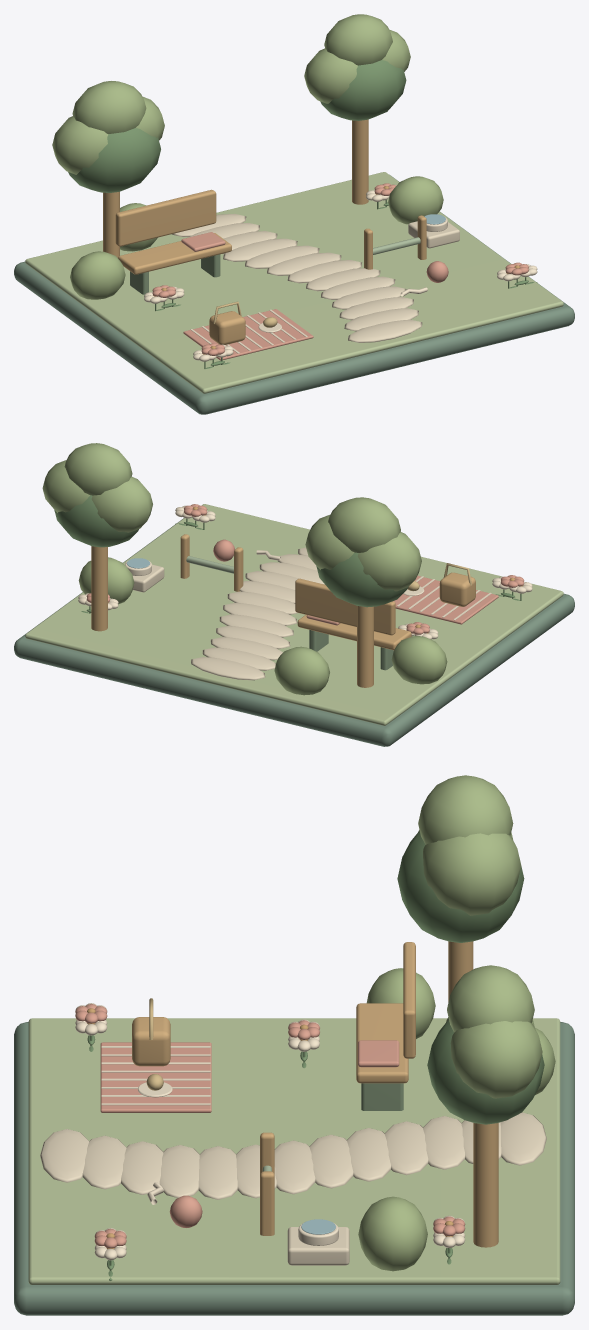
The model's file is park.glb.
The picture shows the model from 3 angles, top to bottom: view 1: azimuth 30°, elevation 25°; view 2: azimuth 150°, elevation 25°; view 3: azimuth 270°, elevation 25°; orthographic projection. The views are drawn at different scales.
Visible parts, largest first — view 1: meadow--柔绿草地, trees--嫩叶, shell--地台侧面, meadow--奶油石径, trees--叶片, bench--浅橡木, trees--浅橡木, picnic--蜜桃织物, meadow--奶油织物, picnic--浅橡木, meadow--蜜桃织物, play--浅橡木 (+4 smaller); view 2: meadow--柔绿草地, trees--嫩叶, shell--地台侧面, meadow--奶油石径, trees--叶片, bench--浅橡木, trees--浅橡木, picnic--蜜桃织物, picnic--浅橡木, meadow--奶油织物, play--浅橡木, meadow--蜜桃织物 (+3 smaller); view 3: meadow--柔绿草地, trees--嫩叶, shell--地台侧面, meadow--奶油石径, trees--叶片, picnic--蜜桃织物, bench--浅橡木, trees--浅橡木, picnic--奶油织物, meadow--蜜桃织物, picnic--浅橡木, play--奶油石径 (+6 smaller).
Part boxes in pixels (x1,y1,x2,y2): meadow--柔绿草地: (25, 172, 563, 393); trees--嫩叶: (52, 14, 443, 299); shell--地台侧面: (14, 174, 574, 414); meadow--奶油石径: (172, 213, 422, 342); trees--叶片: (68, 60, 406, 192); bench--浅橡木: (115, 189, 231, 274); trees--浅橡木: (103, 119, 368, 257); picnic--蜜桃织物: (183, 309, 313, 360); meadow--奶油织物: (144, 184, 537, 361); picnic--浅橡木: (209, 311, 245, 344); meadow--蜜桃织物: (152, 183, 528, 355); play--浅橡木: (364, 215, 426, 269); meadow--柔绿草地: (25, 504, 563, 725); trees--嫩叶: (42, 443, 447, 695); shell--地台侧面: (14, 518, 574, 746); meadow--奶油石径: (191, 547, 324, 680); trees--叶片: (54, 495, 408, 607); bench--浅橡木: (295, 578, 411, 650); trees--浅橡木: (91, 546, 373, 687); picnic--蜜桃织物: (393, 575, 498, 624); picnic--浅橡木: (439, 572, 475, 606); meadow--奶油织物: (78, 505, 532, 639); play--浅橡木: (180, 534, 243, 591); meadow--蜜桃织物: (86, 504, 524, 634); meadow--柔绿草地: (28, 1018, 560, 1284); trees--嫩叶: (358, 775, 555, 1271); shell--地台侧面: (14, 1022, 574, 1315); meadow--奶油石径: (40, 1112, 546, 1199); trees--叶片: (397, 831, 544, 1124); picnic--蜜桃织物: (100, 1042, 211, 1112); bench--浅橡木: (356, 942, 415, 1083); trees--浅橡木: (448, 941, 498, 1247); picnic--奶油织物: (101, 1046, 210, 1105); meadow--蜜桃织物: (75, 1004, 465, 1248); picnic--浅橡木: (132, 1017, 170, 1066); play--奶油石径: (287, 1227, 349, 1265).
Size of the model in its own units: 6.7 by 3.53 by 5.8.
